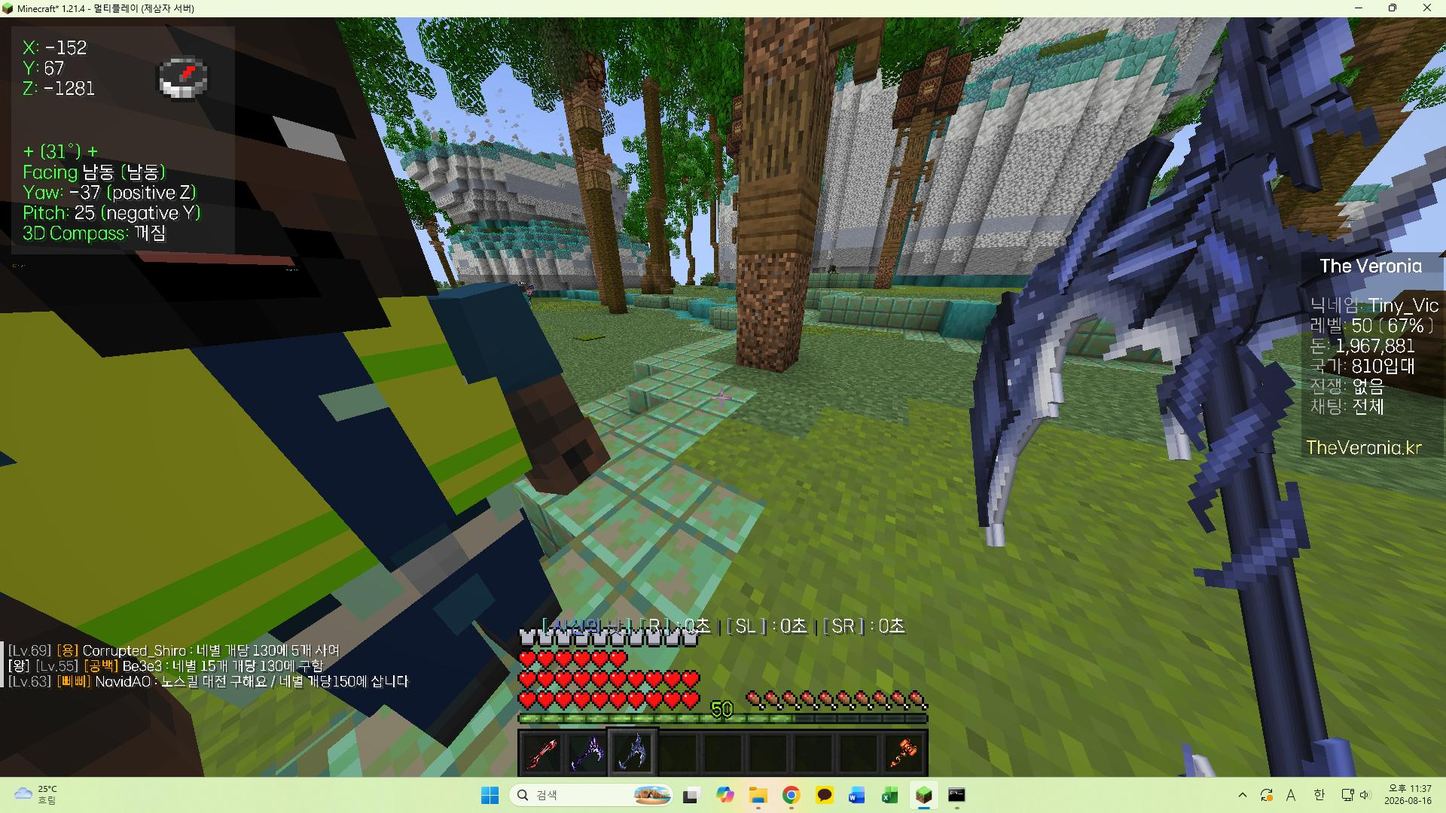Guardian: (0, 207, 625, 743)
